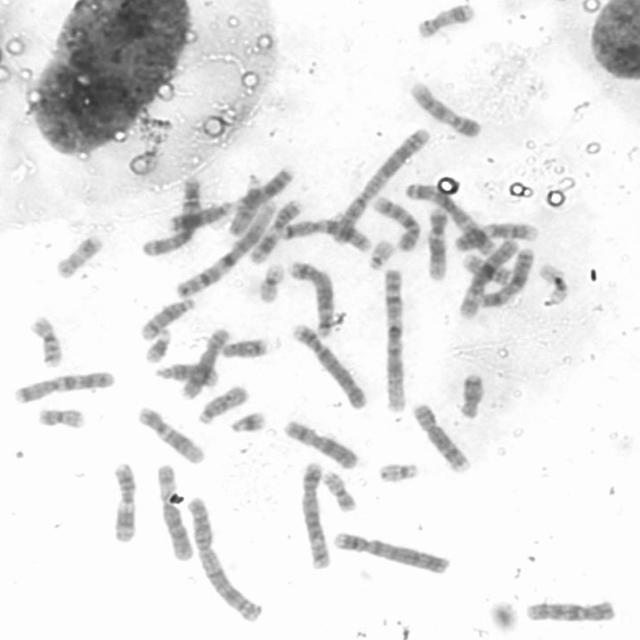A1: (174, 197, 278, 301), (380, 267, 409, 414)
A2: (328, 128, 432, 246), (187, 496, 266, 624)
A3: (407, 182, 498, 257), (137, 176, 203, 259)
B4: (291, 325, 370, 411), (336, 531, 453, 576)
B5: (286, 260, 336, 338), (298, 460, 333, 569)
C10: (372, 196, 422, 251), (524, 600, 622, 624)
C11: (249, 198, 304, 264), (109, 461, 138, 545)
C12: (132, 404, 206, 465), (427, 206, 450, 280)
C6: (456, 238, 519, 319), (154, 463, 196, 562)
C7: (13, 371, 118, 405), (281, 218, 375, 254)
C8: (411, 402, 471, 473), (179, 327, 230, 402)
C9: (407, 81, 483, 139), (452, 222, 540, 253)
D13: (235, 166, 295, 207), (164, 200, 233, 233)
D14: (138, 298, 196, 342), (154, 364, 222, 388)
D15: (225, 172, 264, 238), (196, 385, 249, 425)
E16: (462, 250, 523, 288), (30, 316, 64, 367)
E17: (413, 2, 476, 40), (54, 234, 104, 278)
E18: (458, 371, 485, 419), (222, 337, 268, 359)
F19: (538, 261, 570, 305), (258, 263, 286, 303)
F20: (320, 468, 358, 515), (36, 406, 88, 431)
G21: (141, 326, 172, 364), (227, 409, 267, 434)
G22: (377, 461, 421, 487), (366, 238, 397, 273)
X: (282, 419, 361, 471), (477, 246, 536, 310)
